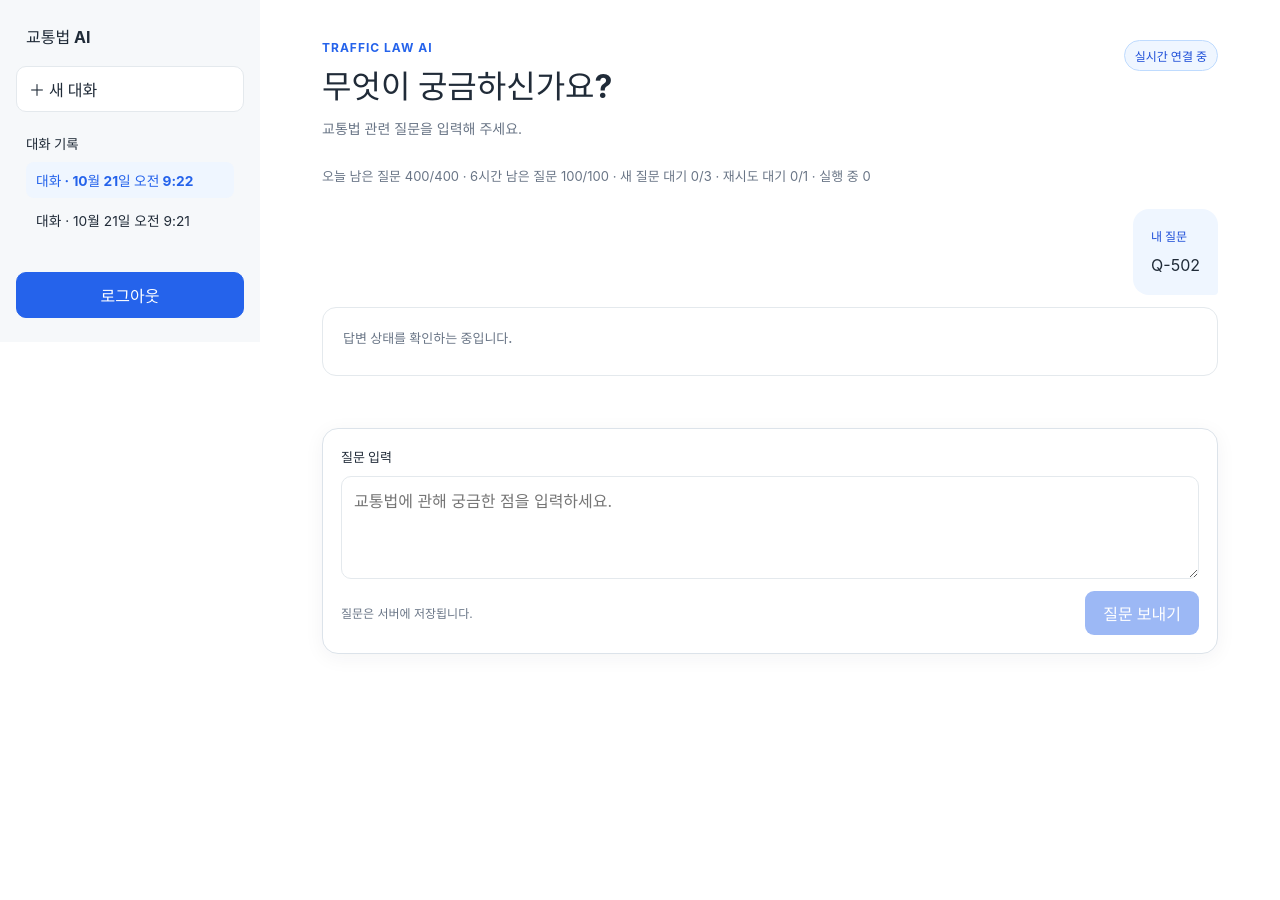
대화를 읽지 못하면 다시 불러오기를 권하고, 누르면 그 대화를 다시 읽는다
Expected: the text "Q-502" is shown, left=1151, top=253, right=1200, bottom=279
What coordinates should you click on to do the following:
click the 3rd button
I would click on:
 (130, 220)
Its box is left=26, top=202, right=234, bottom=238.
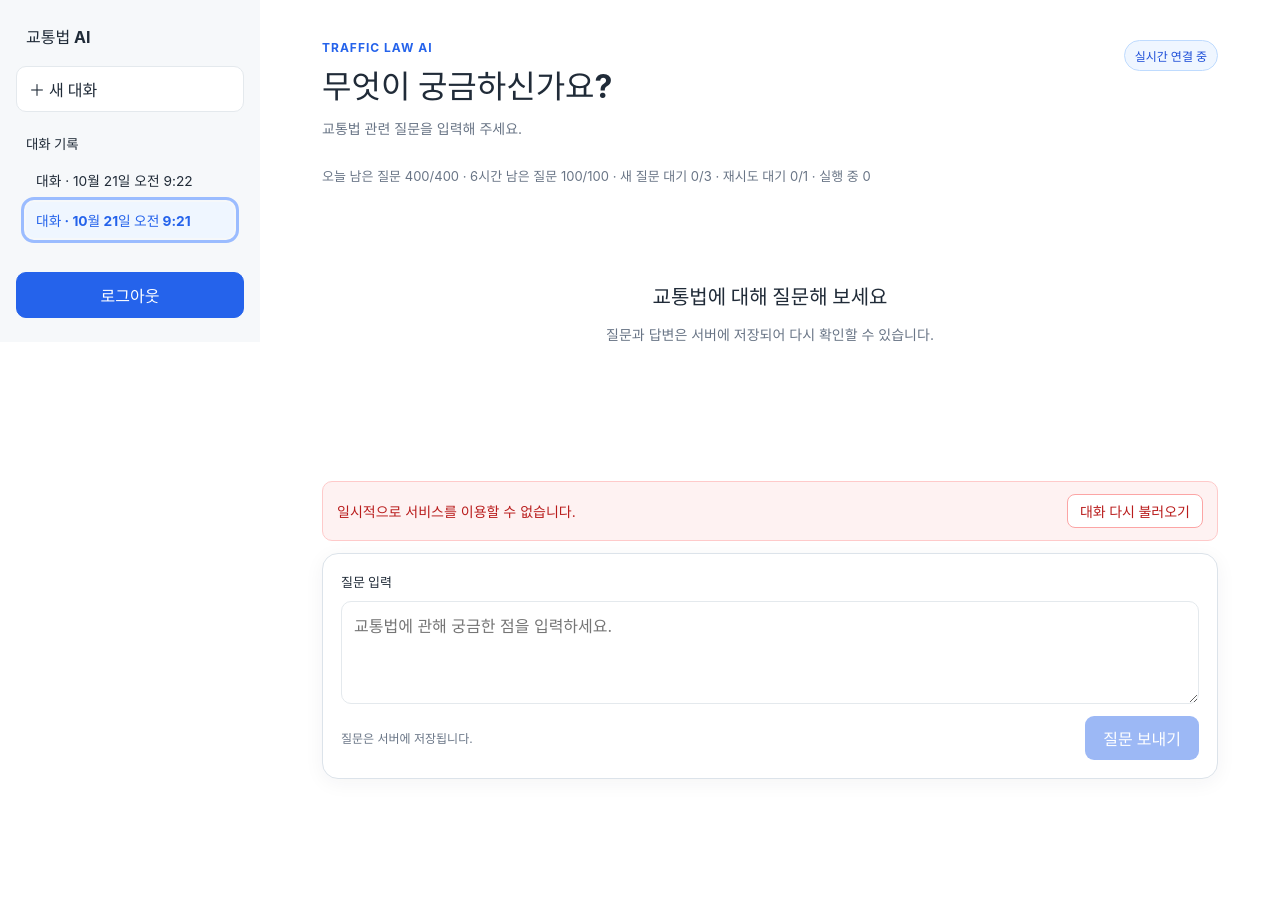
Result: the message "일시적으로 서비스를 이용할 수 없습니다. 대화 다시 불러오기" is shown at left=322, top=481, right=1218, bottom=541
What coordinates should you click on to do the following:
click the button "대화 다시 불러오기"
I would click on:
 (1135, 511)
Its box is left=1067, top=494, right=1203, bottom=528.
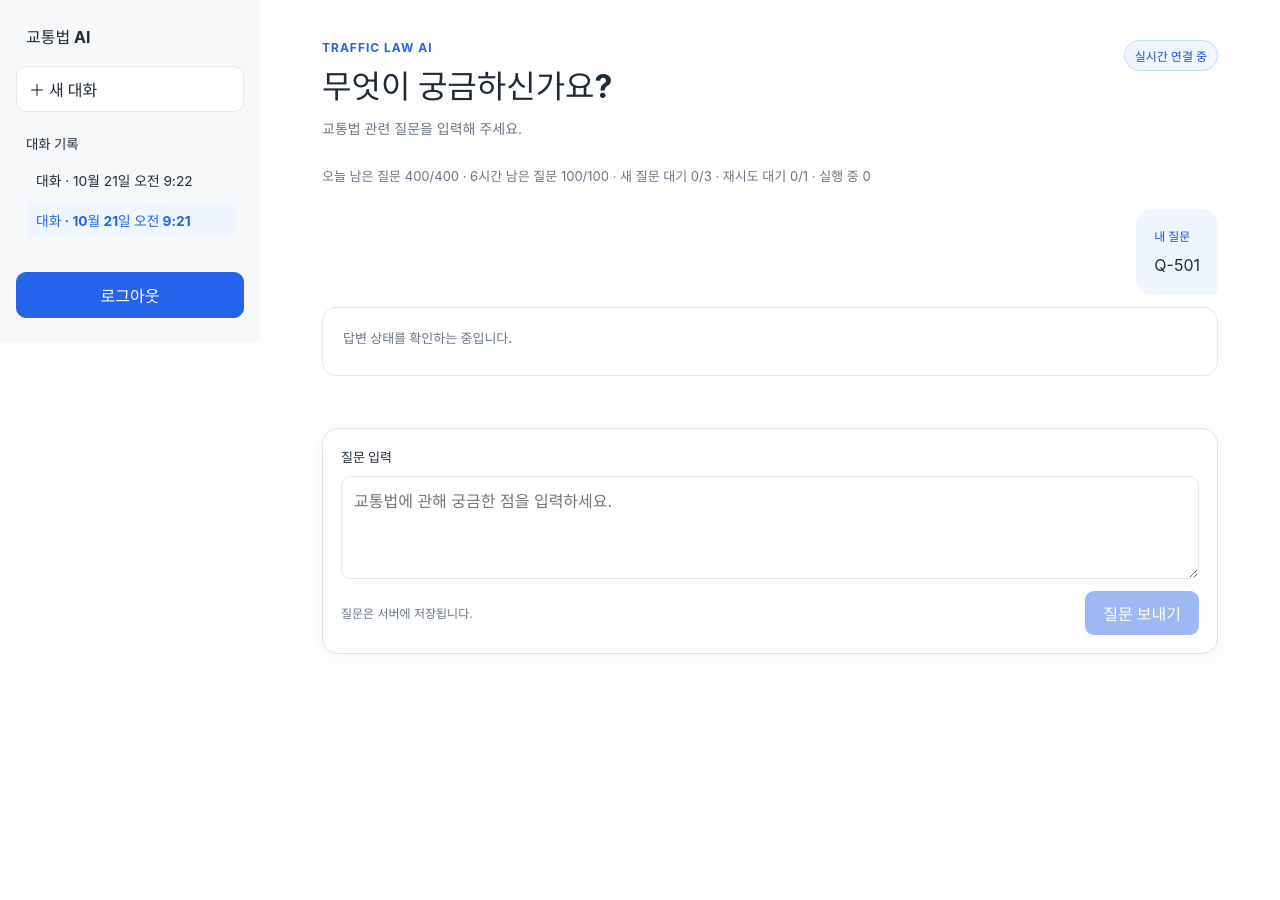
Result: the text "Q-501" is shown at left=1154, top=253, right=1200, bottom=279
